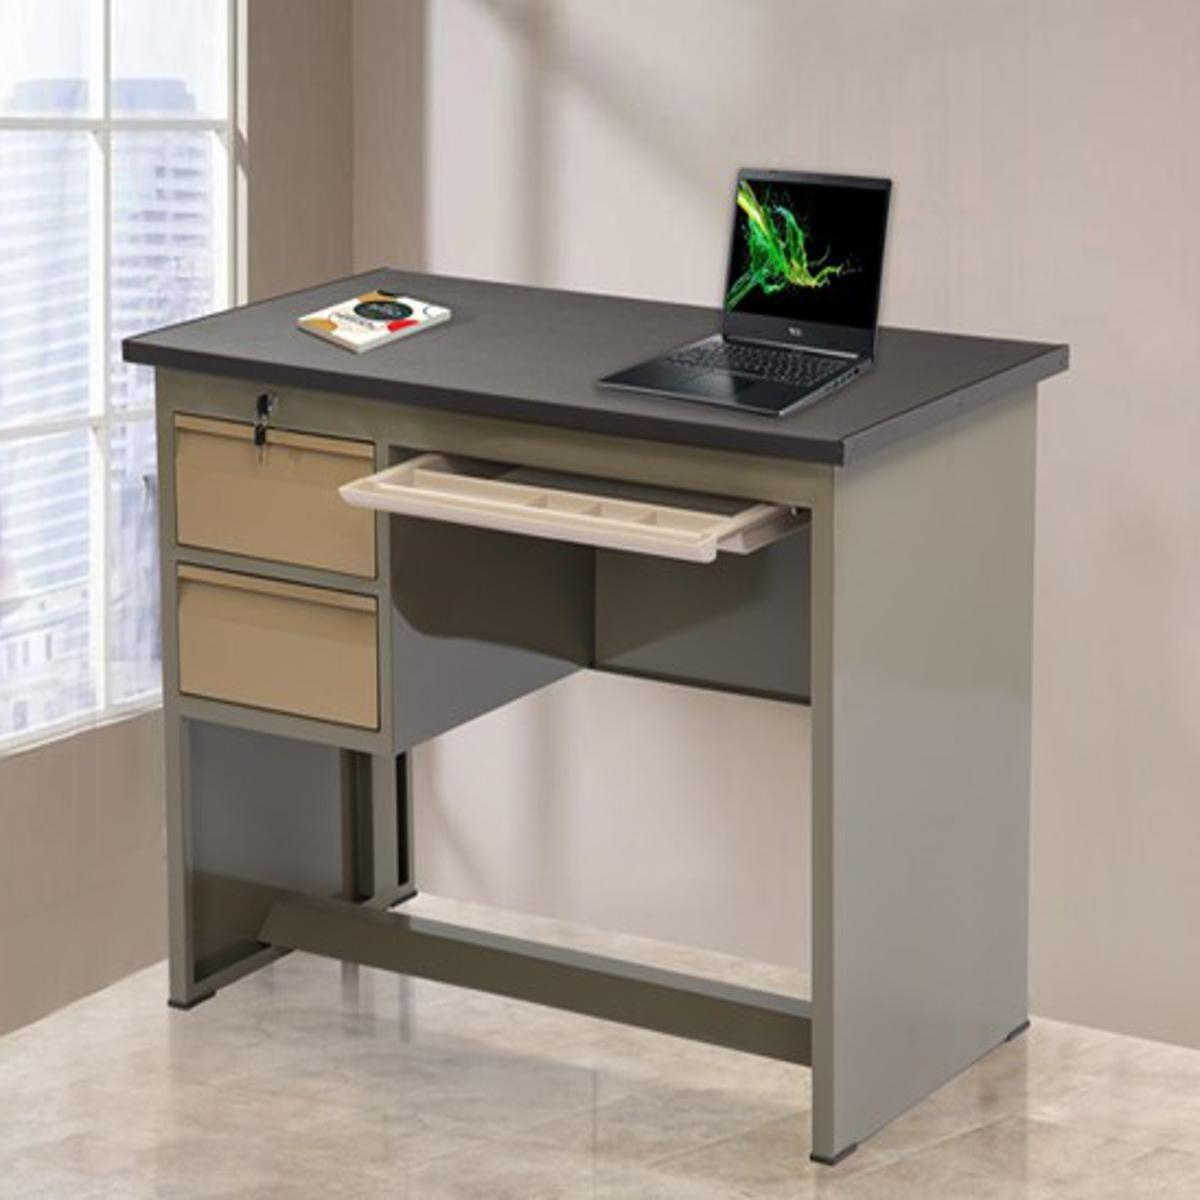Table: (120, 232, 1104, 1172)
